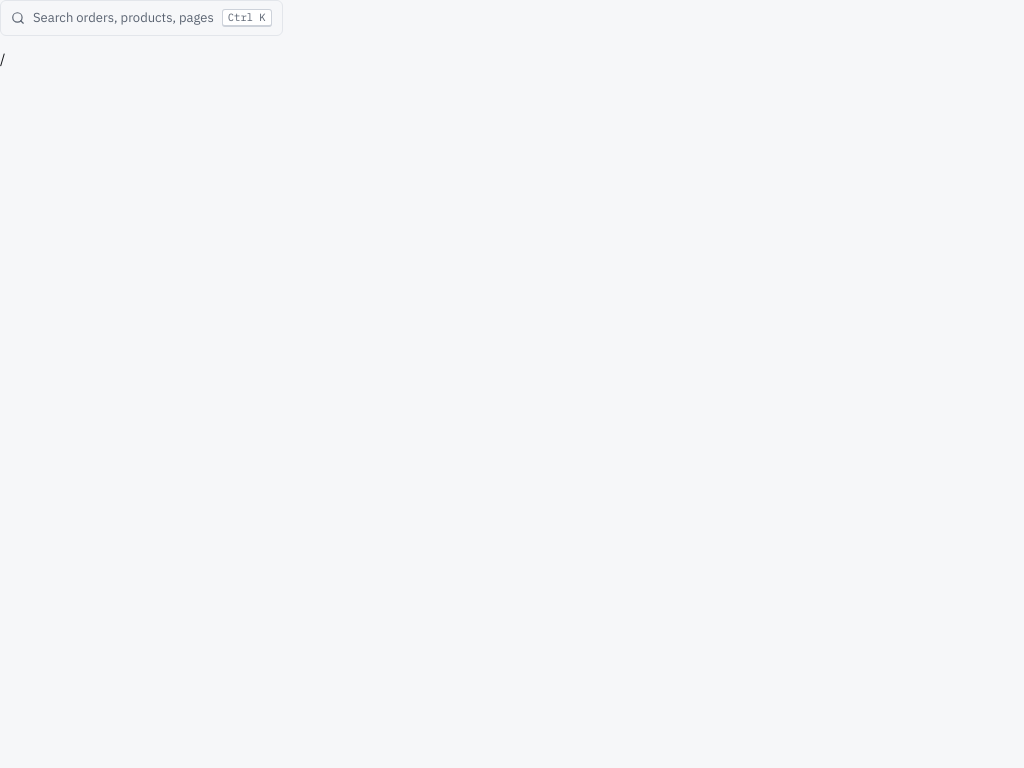
Test: finds pages by name and leaves orders alone for one letter
Type keys "{Control>}k{/Control}"
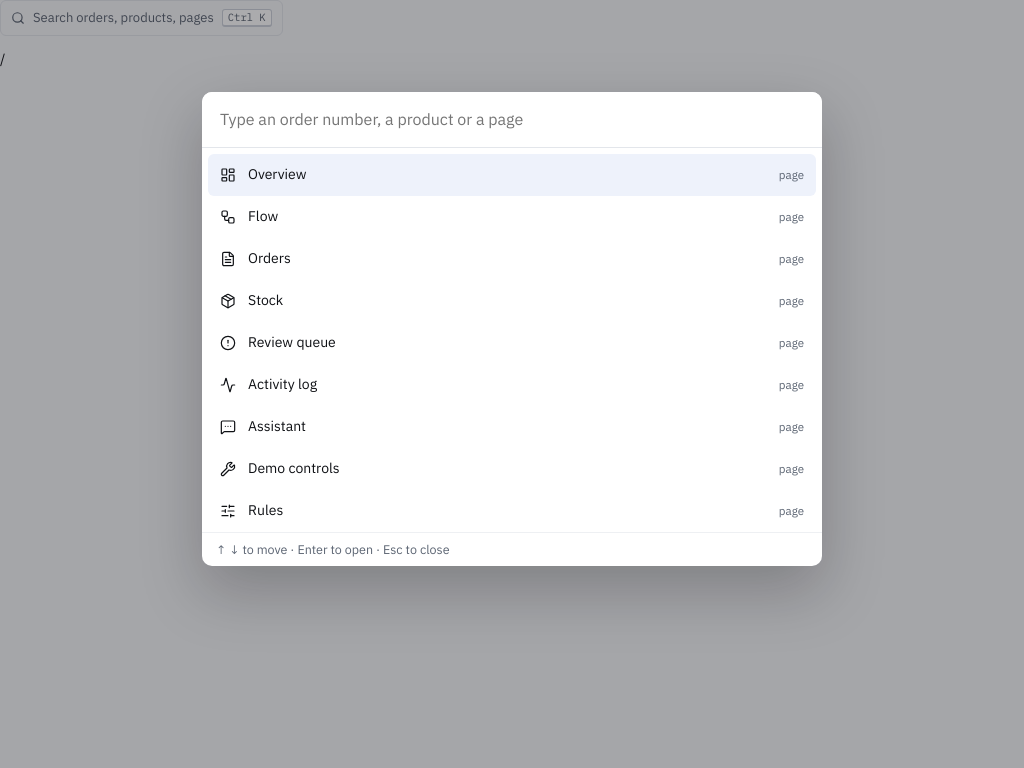
In the dropdown: (512, 120) top-left (202, 92), bottom-right (822, 148), type "r"
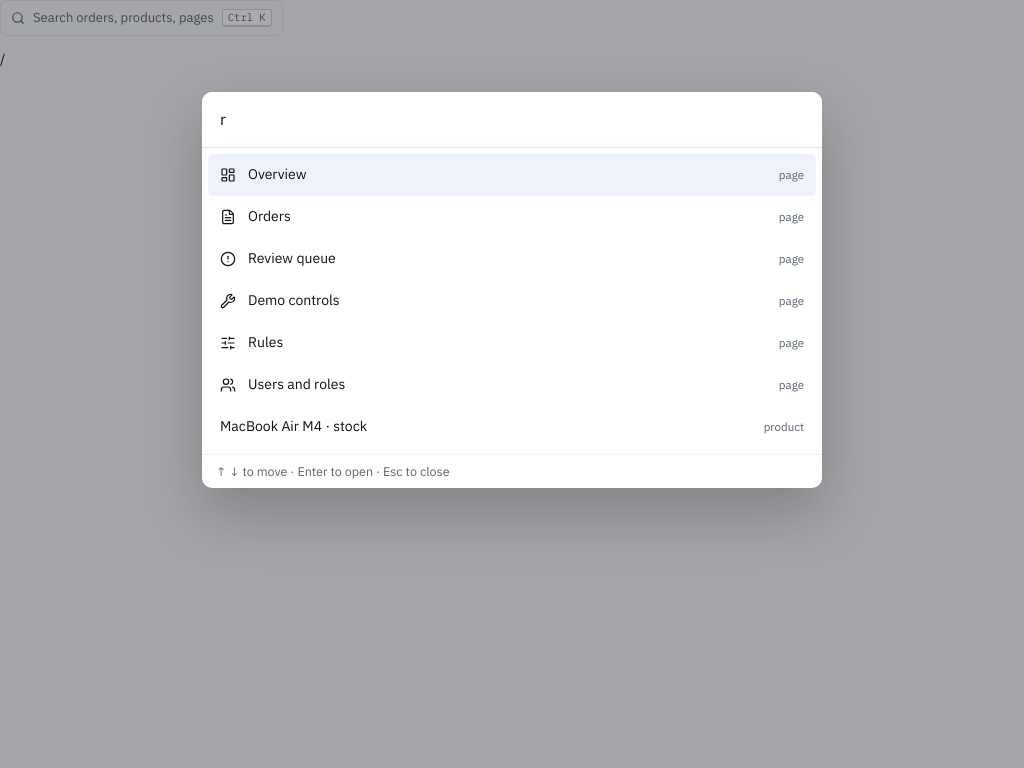
Replace the text in the dropdown with "rules": (512, 120) top-left (202, 92), bottom-right (822, 148)
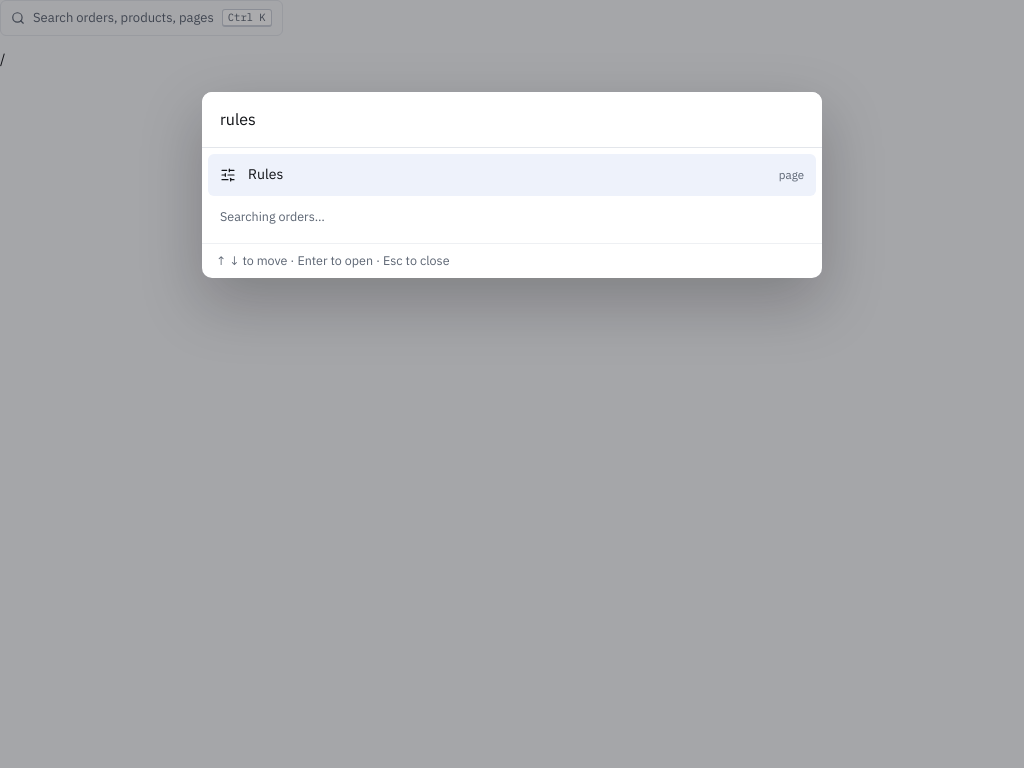
expect the options read "Rulespage", in this order: met, box top-left (208, 154), bottom-right (816, 196)
Press Enter
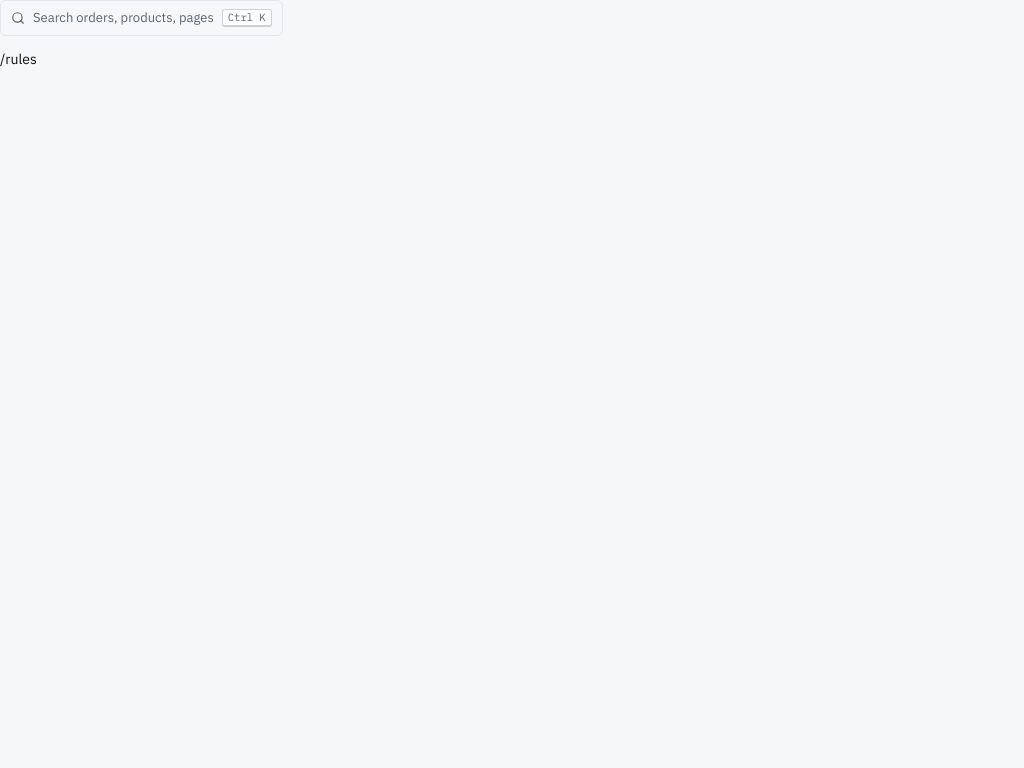
expect the text named "Page" reads "/rules": met, box top-left (0, 50), bottom-right (37, 68)
